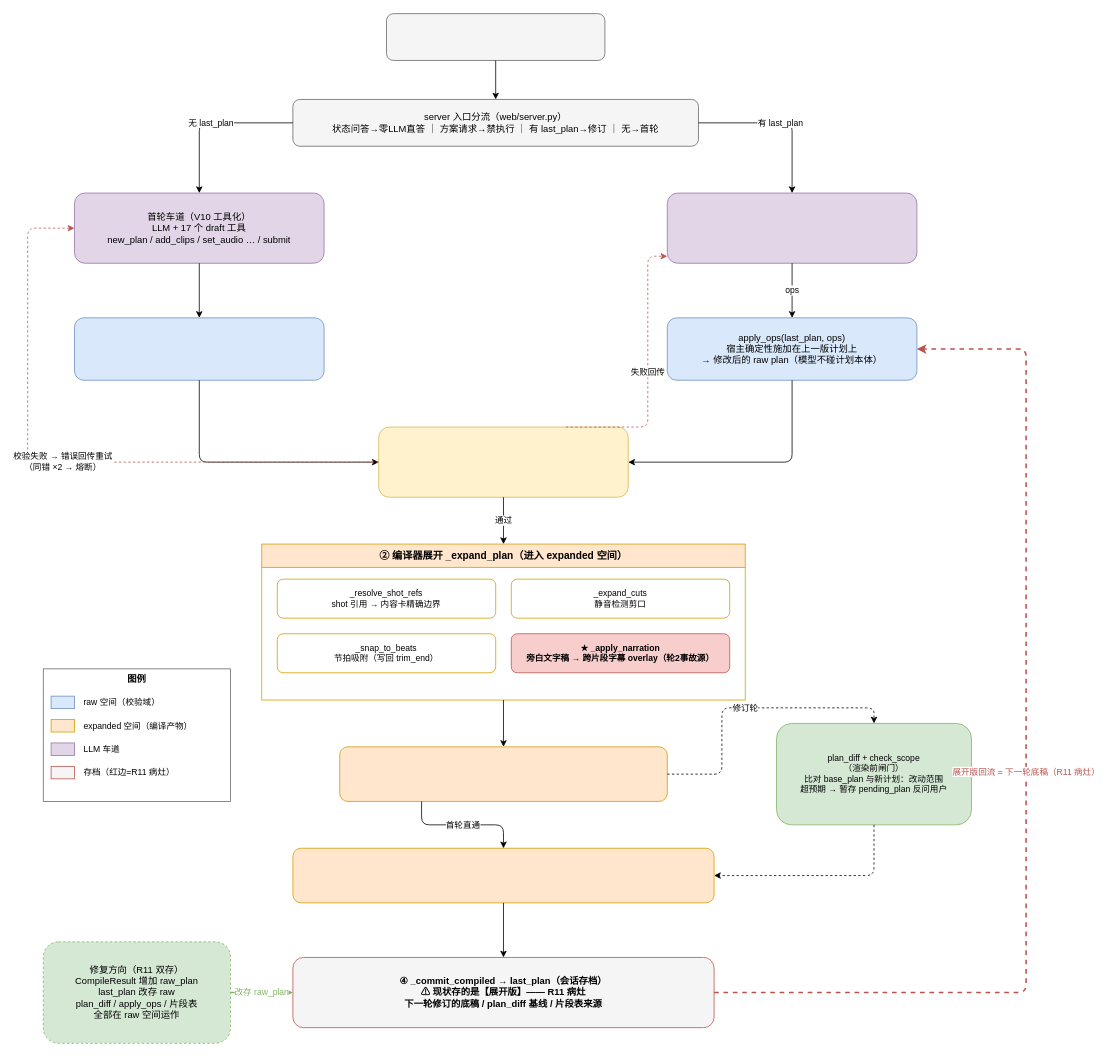
Some shapes in this 1113 by 1057 pixel diagram are drawn without their labels. Each missing label, with the centre of its shape:
CompileResult{ plan = 展开版 } overlays 里现在有 10 条字幕（时长可超 host 片段）: point 503,773
raw plan（模型提交版） clips / _narration 旁白宏 / shot 引用 / audio overlays 里【没有】字幕: point 199,348
① validate_plan 校验（raw 空间） 键白名单 / 时间数学 / overlay 片段内语义 / 素材存在性 —— 此刻没有字幕可查，通过: point 503,461
③ _derive 时间轴数学 → ffmpeg 命令 → 渲染 → verify 字幕按绝对时间轴绘制，跨片段继续显示（设计特性）: point 503,875
修订车道（V9 ops，未升级） LLM + 1 个 edit_plan 工具 输出 ops 清单（仅 8 种预设操作）: point 792,227
用户消息（自然语言） "把BGM换成更抒情一点的": point 495,36
